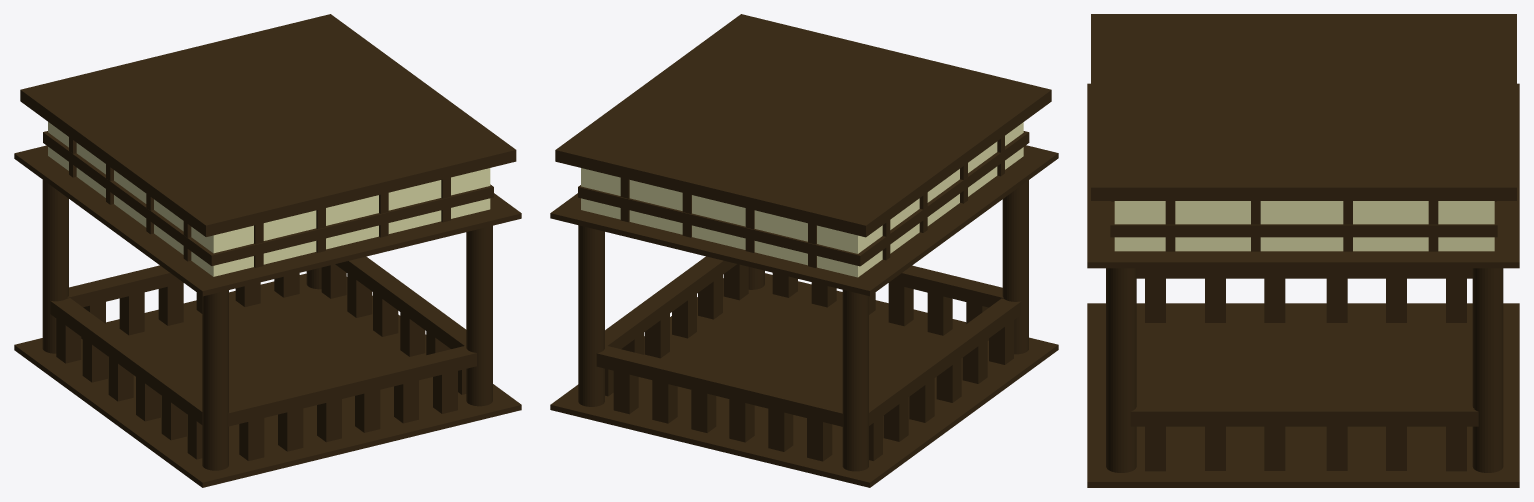
The model's file is jp_building.fbx.
3 views of the same model, side by side, from view 1: azimuth 30°, elevation 25°; view 2: azimuth 150°, elevation 25°; view 3: azimuth 270°, elevation 25° (orthographic). The views are drawn at different scales.
Parts seen in each view (by area): view 1: Cube.005, Cube, Cylinder, Cube.004, Cube.002, Cube.001, Cube.007, Cube.008, Cube.012, Cube.013, Cube.006, Cube.010 (+3 smaller); view 2: Cube.005, Cube, Cylinder, Cube.004, Cube.002, Cube.001, Cube.007, Cube.012, Cube.008, Cube.013, Cube.006, Cube.010 (+3 smaller); view 3: Cube.005, Cube, Cube.004, Cube.001, Cylinder, Cube.007, Cube.008, Cube.003, Cube.006, Cube.011, Cube.009.
Boxes of the visible parts, x1=… form: Cube.005: x1=20, y1=14, x2=516, y2=236; Cube: x1=14, y1=145, x2=521, y2=487; Cylinder: x1=42, y1=180, x2=492, y2=470; Cube.004: x1=48, y1=122, x2=490, y2=276; Cube.002: x1=66, y1=265, x2=476, y2=426; Cube.001: x1=50, y1=256, x2=466, y2=424; Cube.007: x1=43, y1=131, x2=493, y2=265; Cube.008: x1=108, y1=292, x2=425, y2=421; Cube.012: x1=119, y1=282, x2=418, y2=451; Cube.013: x1=158, y1=283, x2=380, y2=442; Cube.006: x1=82, y1=273, x2=450, y2=440; Cube.010: x1=81, y1=273, x2=457, y2=460; Cube.005: x1=555, y1=14, x2=1051, y2=237; Cube: x1=550, y1=145, x2=1058, y2=487; Cylinder: x1=578, y1=180, x2=1028, y2=471; Cube.004: x1=581, y1=122, x2=1023, y2=277; Cube.002: x1=596, y1=265, x2=1003, y2=426; Cube.001: x1=605, y1=256, x2=1021, y2=425; Cube.007: x1=578, y1=131, x2=1029, y2=266; Cube.012: x1=652, y1=282, x2=952, y2=451; Cube.008: x1=644, y1=294, x2=961, y2=422; Cube.013: x1=691, y1=283, x2=913, y2=442; Cube.006: x1=621, y1=275, x2=987, y2=441; Cube.010: x1=613, y1=273, x2=988, y2=461; Cube.005: x1=1091, y1=14, x2=1516, y2=200; Cube: x1=1087, y1=83, x2=1519, y2=487; Cube.004: x1=1114, y1=201, x2=1494, y2=251; Cube.001: x1=1130, y1=268, x2=1478, y2=426; Cylinder: x1=1106, y1=268, x2=1503, y2=472; Cube.007: x1=1110, y1=201, x2=1497, y2=237; Cube.008: x1=1264, y1=278, x2=1347, y2=470; Cube.003: x1=1145, y1=278, x2=1466, y2=471; Cube.006: x1=1205, y1=278, x2=1406, y2=470; Cube.011: x1=1165, y1=201, x2=1438, y2=251; Cube.009: x1=1251, y1=201, x2=1352, y2=251.
Size of the model in its own units: 936 by 729 by 957.
